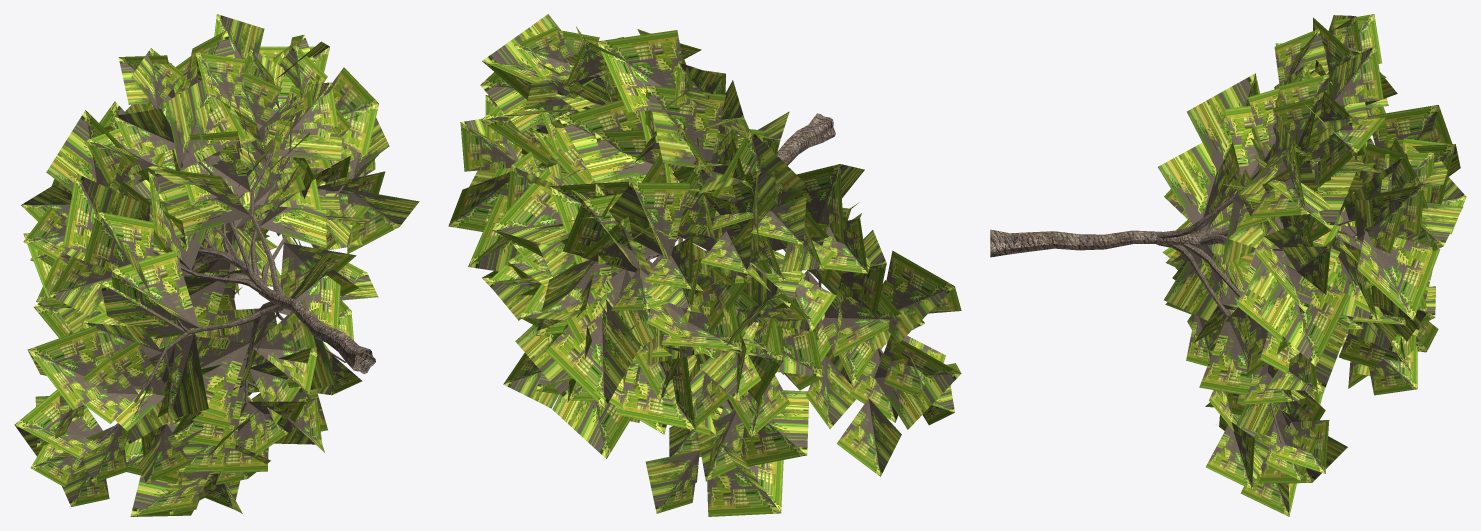
File: tree.FBX
3 renders of one model, left to right at view 1: azimuth 30°, elevation 25°; view 2: azimuth 150°, elevation 25°; view 3: azimuth 270°, elevation 25°, orthographic. The views are drawn at different scales.
Visible parts, largest first — view 1: polySurface72, polySurface1; view 2: polySurface72, polySurface1; view 3: polySurface72, polySurface1.
Part boxes in pixels (box(x1,y1,x2,y2)): polySurface72: box(14, 14, 419, 516); polySurface1: box(58, 93, 375, 475); polySurface72: box(448, 14, 961, 516); polySurface1: box(565, 60, 883, 451); polySurface72: box(1158, 14, 1466, 516); polySurface1: box(990, 80, 1396, 442).
Size of the model in its own units: 23.12 by 23.71 by 21.12.
